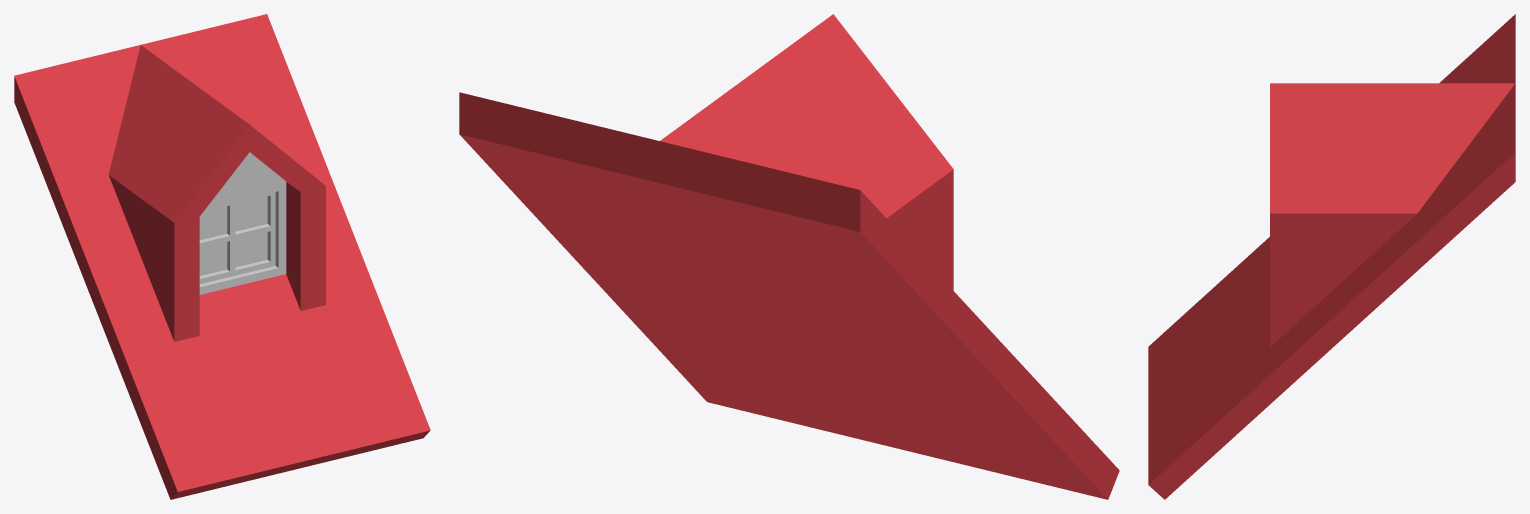
Rendered from roof_dormer5.glb.
The picture shows the model from 3 angles, left to right: view 1: azimuth 30°, elevation 25°; view 2: azimuth 150°, elevation 25°; view 3: azimuth 270°, elevation 25°; orthographic projection. The views are drawn at different scales.
Visible parts, largest first — view 1: roof_dormer5; view 2: roof_dormer5; view 3: roof_dormer5.
Part boxes in pixels (x1=…): roof_dormer5: x1=14, y1=14, x2=430, y2=499; roof_dormer5: x1=459, y1=14, x2=1119, y2=499; roof_dormer5: x1=1148, y1=14, x2=1515, y2=499.
Size of the model in its own units: 1 by 1.17 by 1.12.
